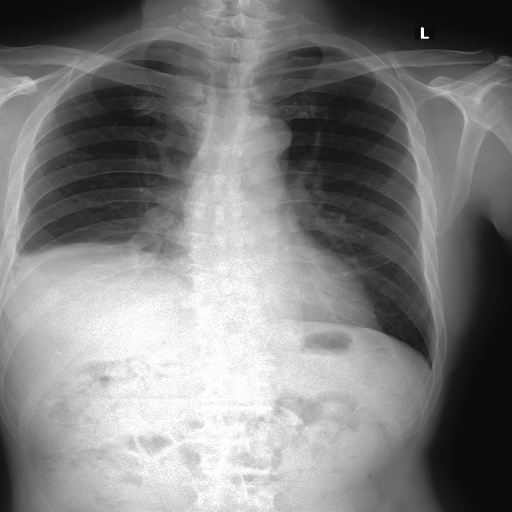Other lesion: (7, 230, 192, 320)
Pleural effusion: (14, 244, 186, 318)
